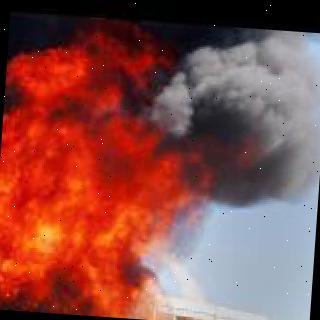fire: (0, 33, 190, 320), (166, 21, 320, 223)
